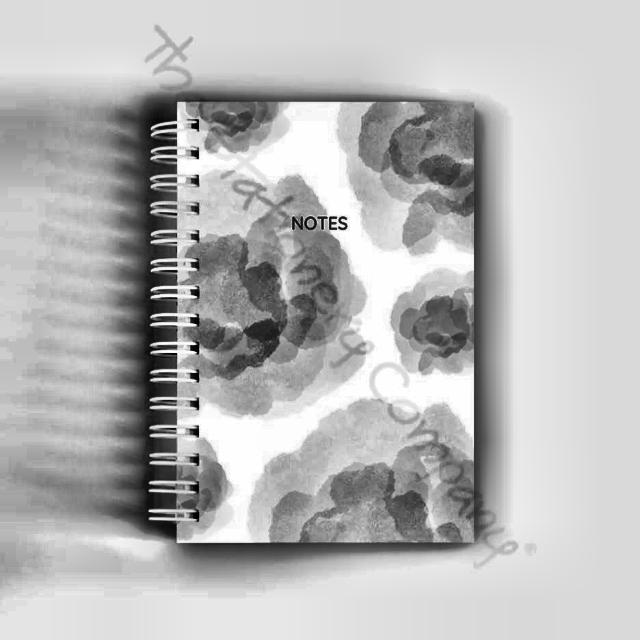Notebook: (118, 34, 491, 568)
